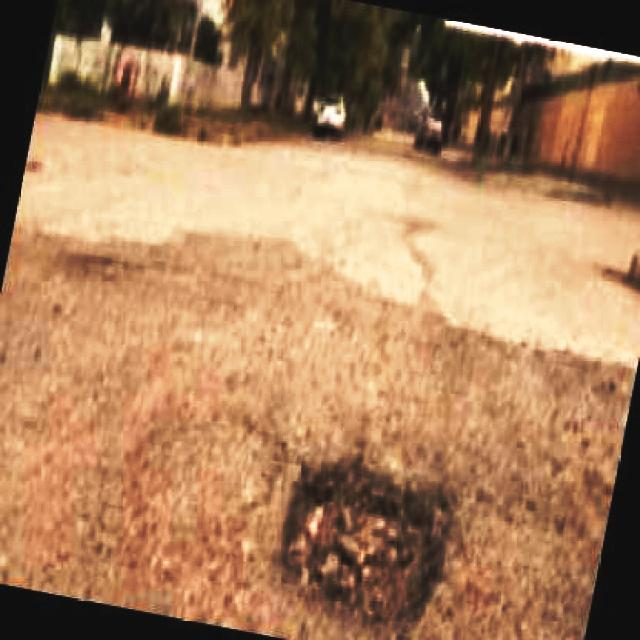pothole: (282, 450, 449, 636)
